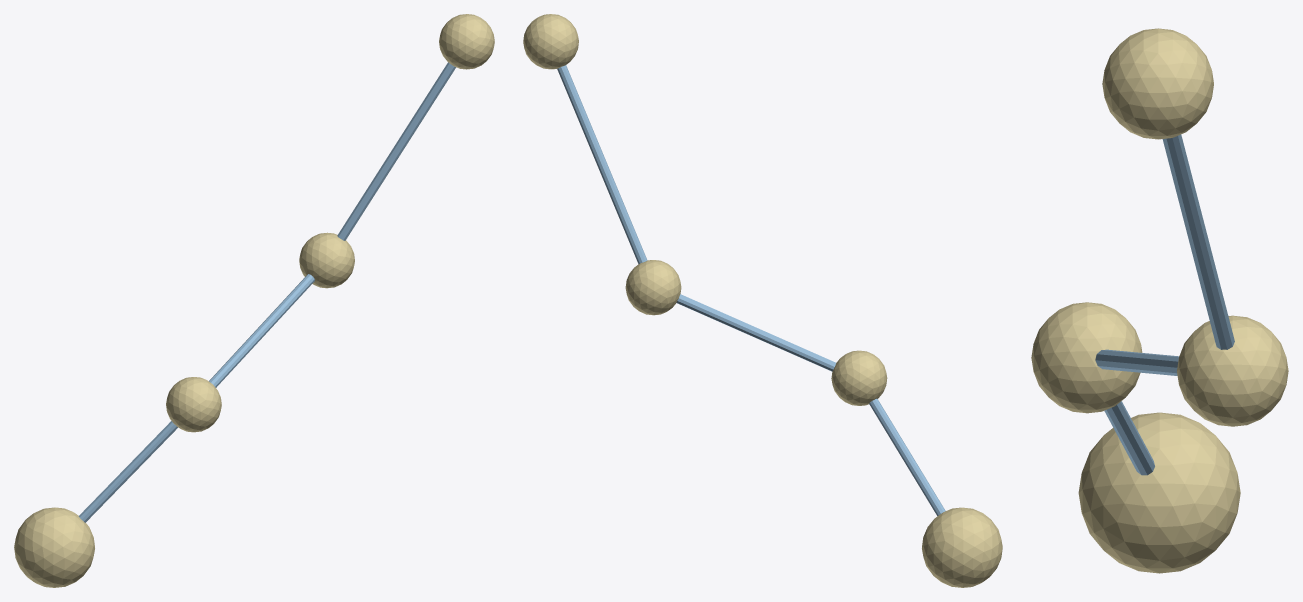
Rendered from aries.glb.
3 views of the same model, side by side, from view 1: azimuth 30°, elevation 25°; view 2: azimuth 150°, elevation 25°; view 3: azimuth 270°, elevation 25° (orthographic). The views are drawn at different scales.
Visible parts, largest first — view 1: world; view 2: world; view 3: world.
Part boxes in pixels (x1,y1,x2,y2): world: (14, 14, 494, 587); world: (523, 14, 1002, 587); world: (1031, 28, 1288, 573).
Bounding box in the file's own units: 1.94 × 1.85 × 0.4602.
